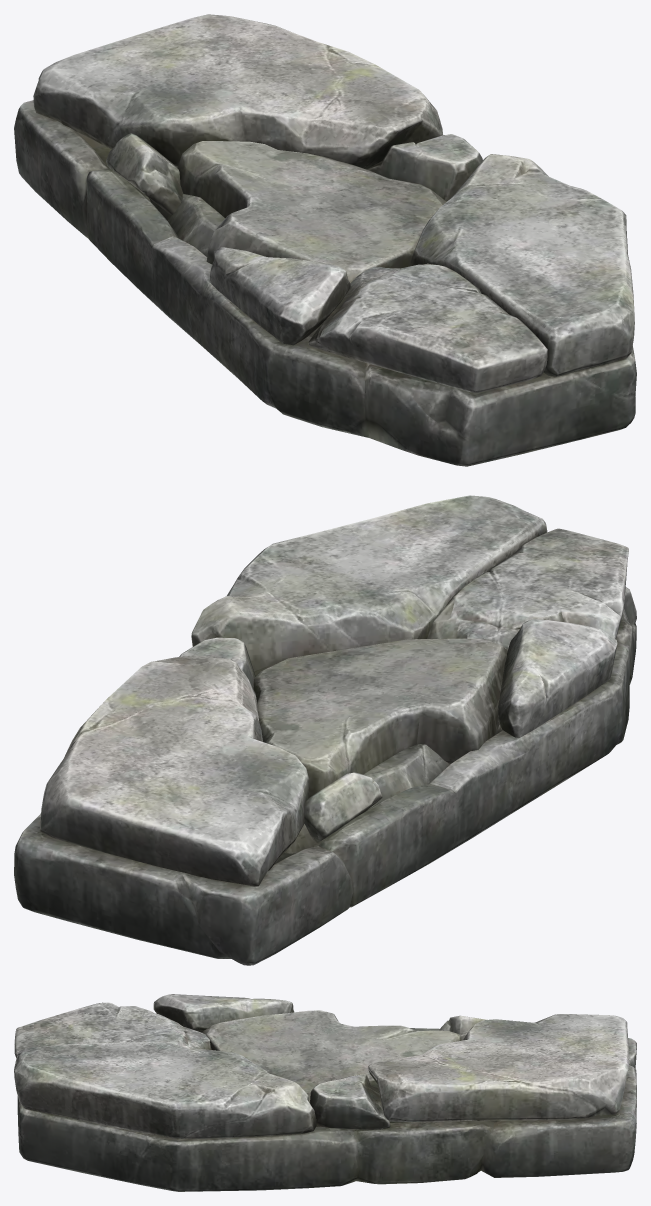
The picture shows the model from 3 angles, top to bottom: view 1: azimuth 30°, elevation 25°; view 2: azimuth 150°, elevation 25°; view 3: azimuth 270°, elevation 25°; orthographic projection. The views are drawn at different scales.
Parts seen in each view (by area): view 1: SM_Coffin_01v2_LOD0; view 2: SM_Coffin_01v2_LOD0; view 3: SM_Coffin_01v2_LOD0.
Part boxes in pixels (box(x1,y1,x2,y2)): SM_Coffin_01v2_LOD0: box(14, 14, 636, 466); SM_Coffin_01v2_LOD0: box(14, 495, 636, 965); SM_Coffin_01v2_LOD0: box(14, 994, 636, 1191).
Size of the model in its own units: 1.13 by 0.4043 by 2.32.
1 material, 1 textured.
